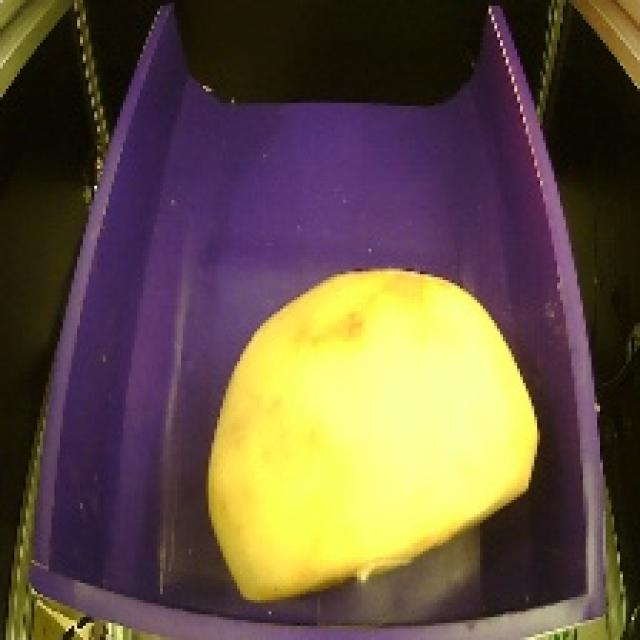full_potato: (191, 248, 552, 609)
